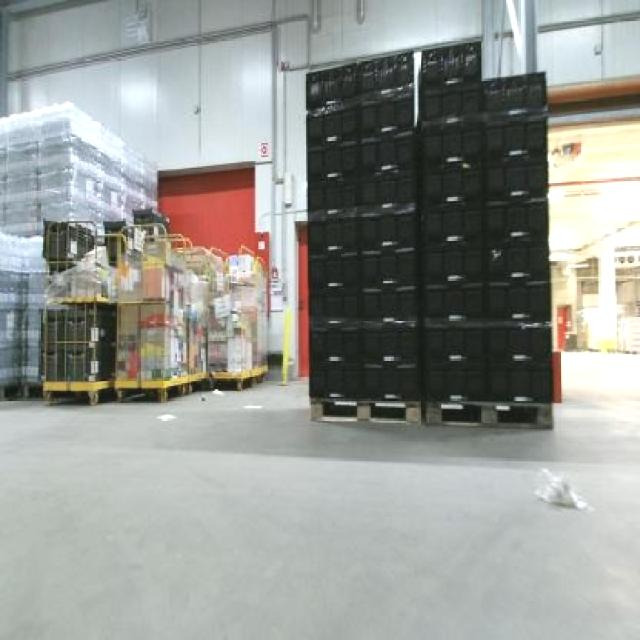floor: (0, 352, 637, 637), (531, 465, 589, 511)
pallets: (305, 42, 549, 423)
